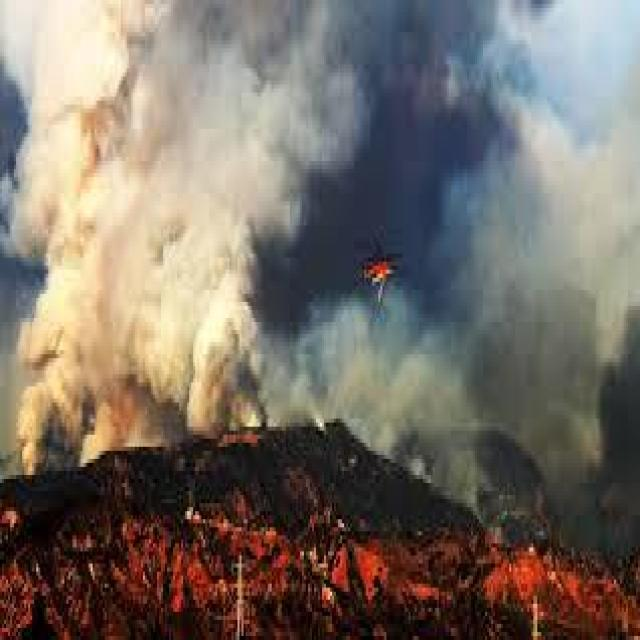smoke: (6, 0, 348, 427), (434, 29, 633, 435), (350, 279, 497, 476)
